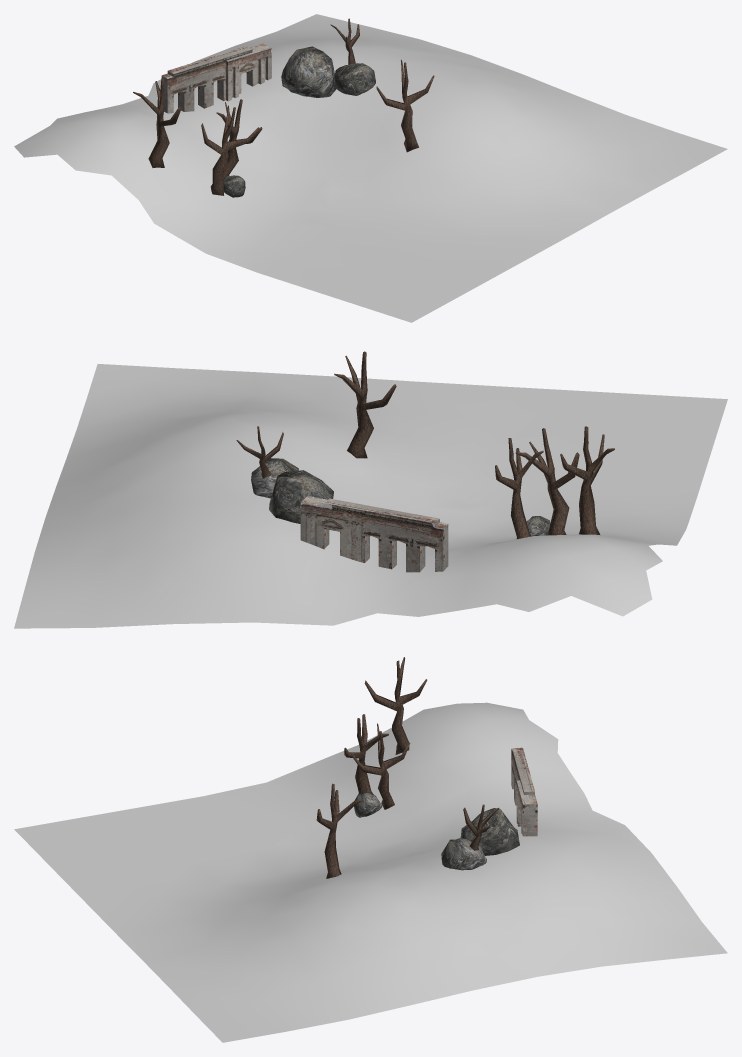
3 views of the same model, one above another, from view 1: azimuth 30°, elevation 25°; view 2: azimuth 150°, elevation 25°; view 3: azimuth 270°, elevation 25° (orthographic). The views are drawn at different scales.
Visible parts, largest first — view 1: Landscape, Ruin, Rock.002, Tree.005, Tree.001, Tree.002, Rock.001, Tree; view 2: Landscape, Ruin, Rock.002, Tree.001, Tree.002, Tree.005, Tree, Rock.001, Tree.003; view 3: Landscape, Ruin, Rock.002, Tree.002, Tree.001, Rock.001, Tree, Tree.005.
Boxes of the visible parts, box(x1,y1,x2,y2) form: Landscape: box(14, 14, 727, 322); Ruin: box(161, 43, 271, 113); Rock.002: box(281, 46, 336, 97); Tree.005: box(201, 105, 259, 195); Tree.001: box(376, 59, 434, 152); Tree.002: box(133, 78, 181, 167); Rock.001: box(334, 63, 375, 95); Tree: box(216, 99, 262, 176); Landscape: box(14, 364, 727, 628); Ruin: box(300, 496, 448, 572); Rock.002: box(269, 470, 333, 523); Tree.001: box(334, 351, 396, 458); Tree.002: box(560, 426, 614, 534); Tree.005: box(515, 428, 579, 535); Tree: box(495, 438, 543, 538); Rock.001: box(251, 458, 298, 498); Tree.003: box(236, 426, 283, 478); Landscape: box(14, 702, 727, 1042); Ruin: box(511, 747, 537, 836); Rock.002: box(460, 808, 519, 855); Tree.002: box(364, 657, 427, 754); Tree.001: box(316, 783, 362, 878); Rock.001: box(441, 838, 486, 870); Tree: box(352, 723, 410, 809); Tree.005: box(344, 714, 388, 793).
Bounding box in the file's own units: 10294 × 2166 × 10448.
